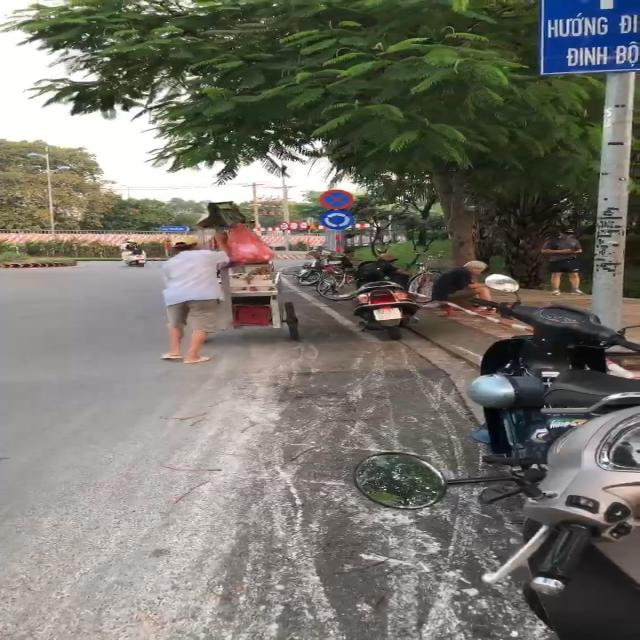Bien bao cam dung xe va do xe: (315, 186, 355, 210)
Bien bao noi giao nhau chay theo vong xuyen: (314, 210, 353, 230)
